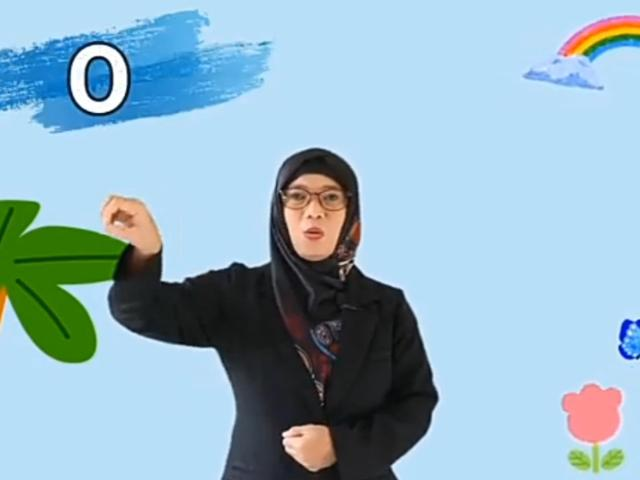O: (99, 187, 173, 259)
